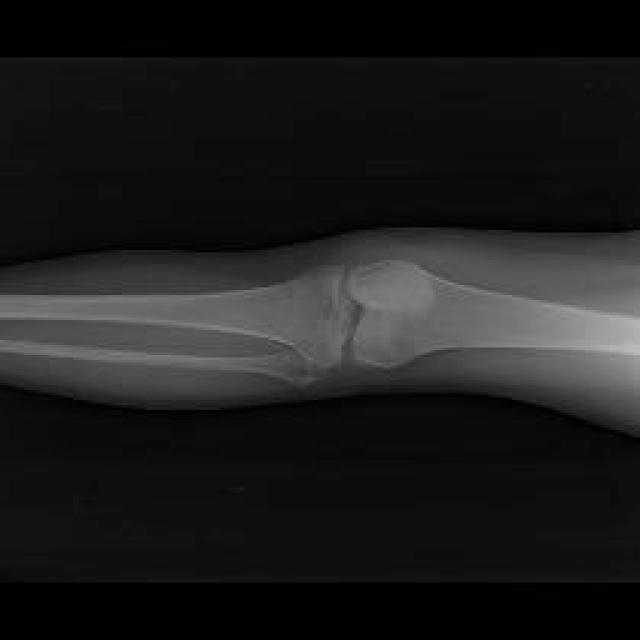normal: (0, 266, 354, 365), (348, 262, 640, 367), (1, 341, 331, 388)
